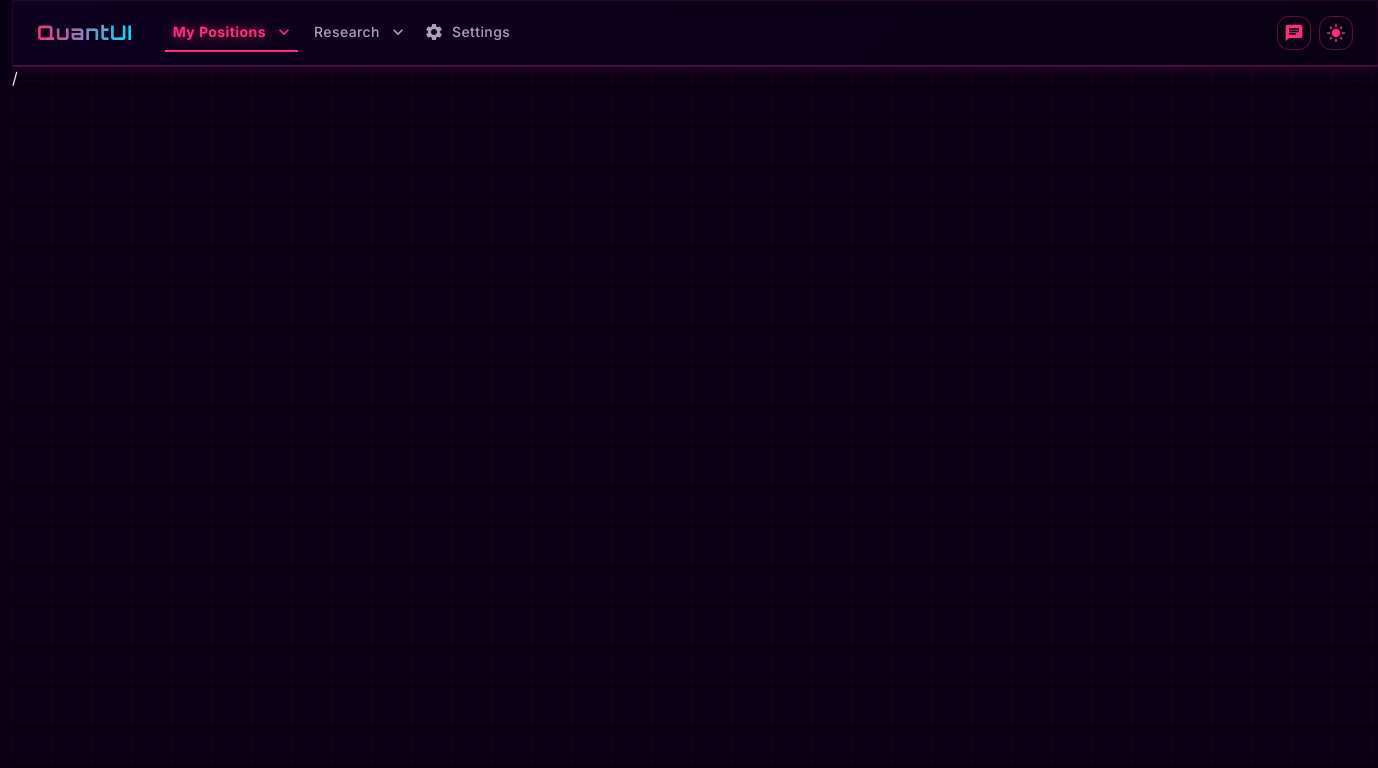
it: NavBar › reveals all three Research pages when the menu is opened
Click the button "Research". click: (359, 33)
box: [306, 14, 412, 52]
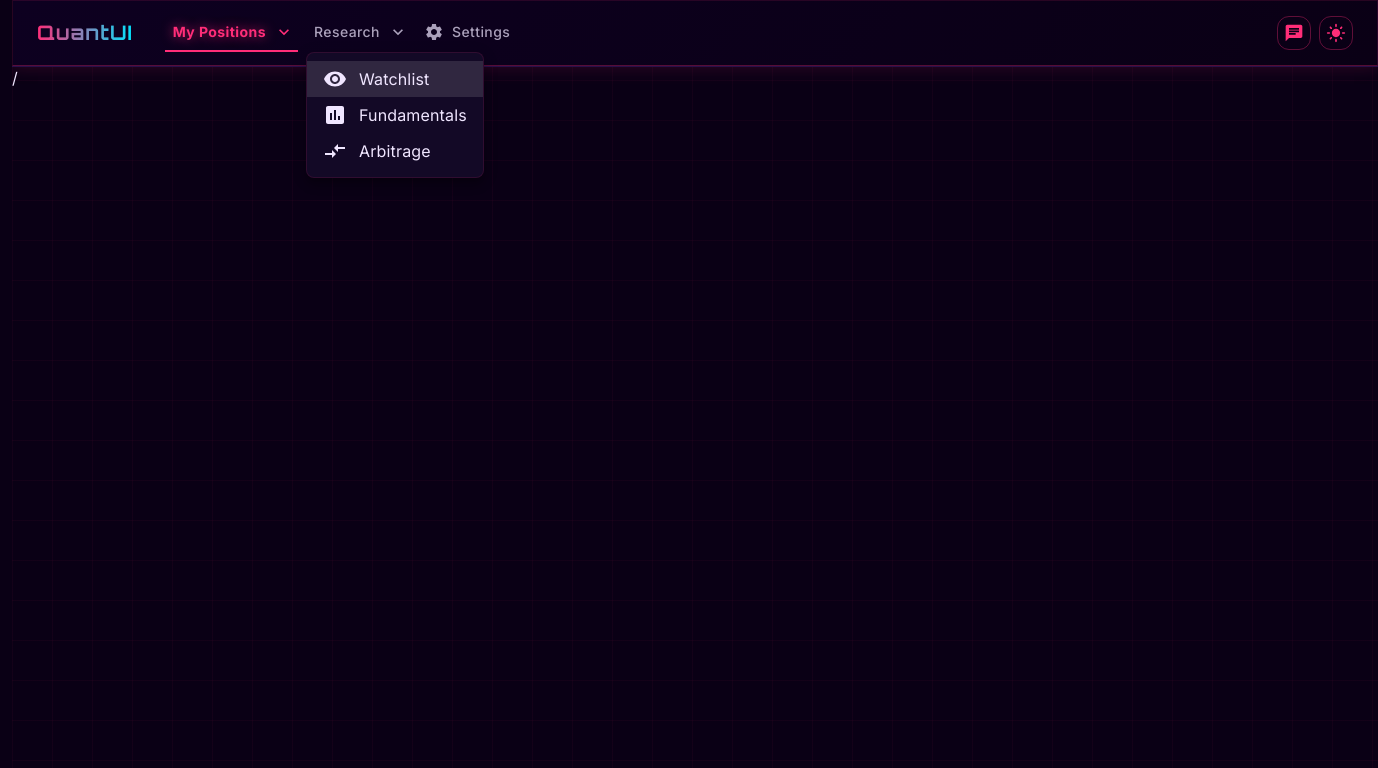
Expected: the menu items read "Watchlist", "Fundamentals", "Arbitrage", in this order, [307, 61, 483, 97]; [323, 103, 467, 127]; [323, 139, 431, 163]
